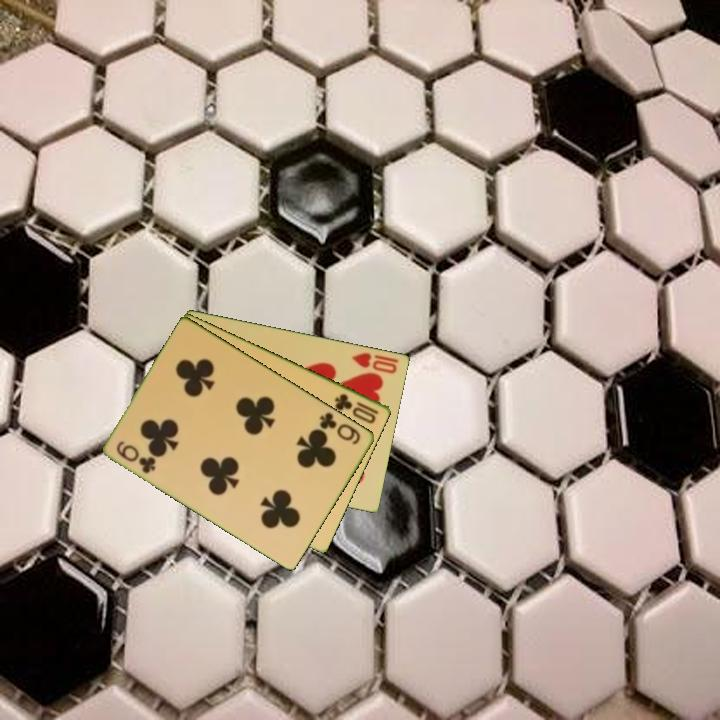10c: (331, 390, 382, 427)
10h: (349, 349, 402, 376)
6c: (316, 408, 364, 448), (113, 437, 159, 476)
